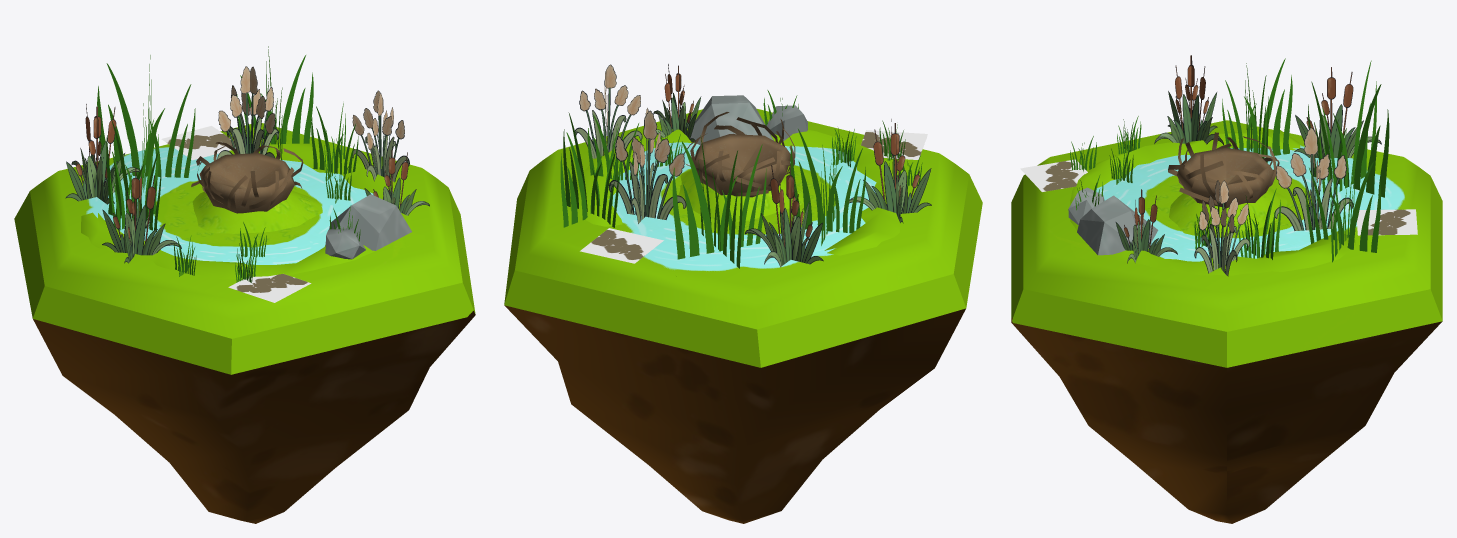
The model's file is Basic_Habitat.fbx.
3 views of the same model, side by side, from view 1: azimuth 30°, elevation 25°; view 2: azimuth 150°, elevation 25°; view 3: azimuth 270°, elevation 25° (orthographic). The views are drawn at different scales.
Parts seen in each view (by area): view 1: polySurface969; view 2: polySurface969; view 3: polySurface969.
Part boxes in pixels (x1,y1,x2,y2): polySurface969: (14, 46, 475, 523); polySurface969: (504, 64, 982, 523); polySurface969: (1011, 55, 1442, 523).
Size of the model in its own units: 11.53 by 11.23 by 9.99.
Materials: 6 (6 with a texture image).
